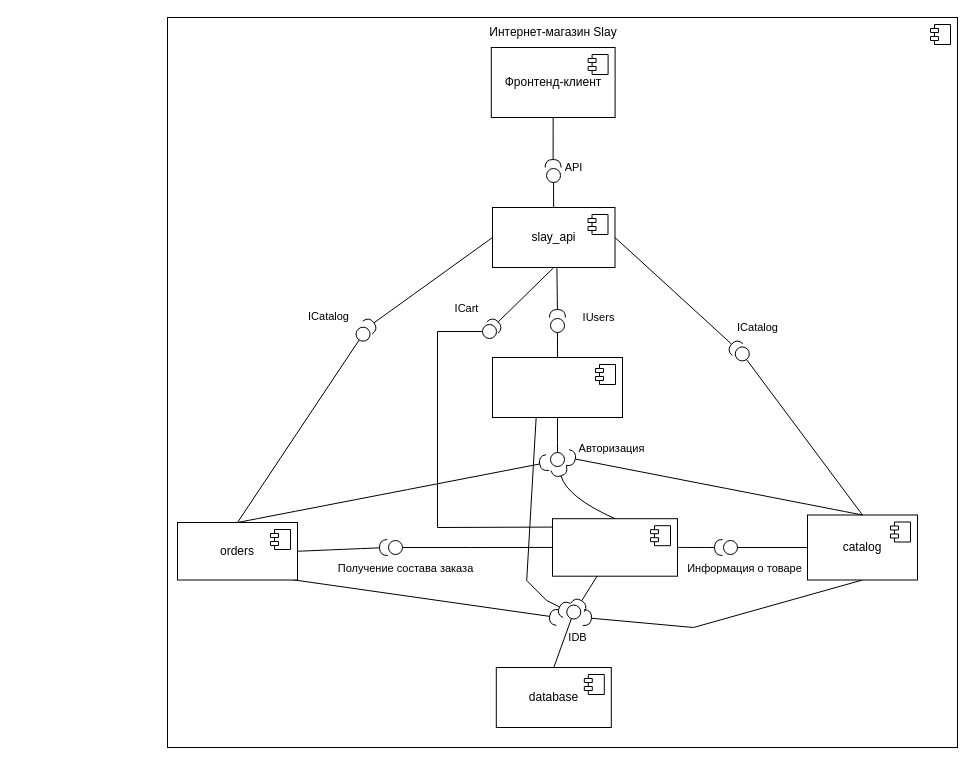
Some shapes in this 975 by 765 pixel diagram are drawn without their labels. The shapes that lost their labels are listed below. From the top down, each one's box as (x1, y1, x2, y2) in pixels, then its label:
(492, 356, 622, 418): users
(552, 518, 678, 576): cart
